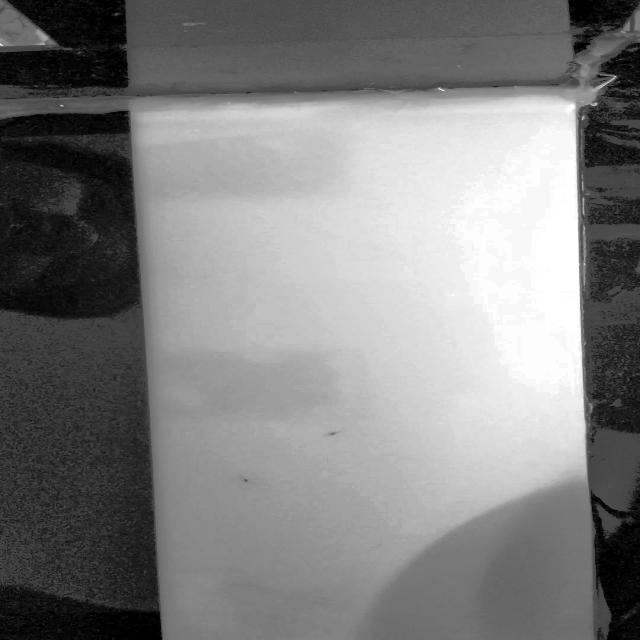shrimp: (317, 429, 351, 441), (232, 473, 258, 488)
